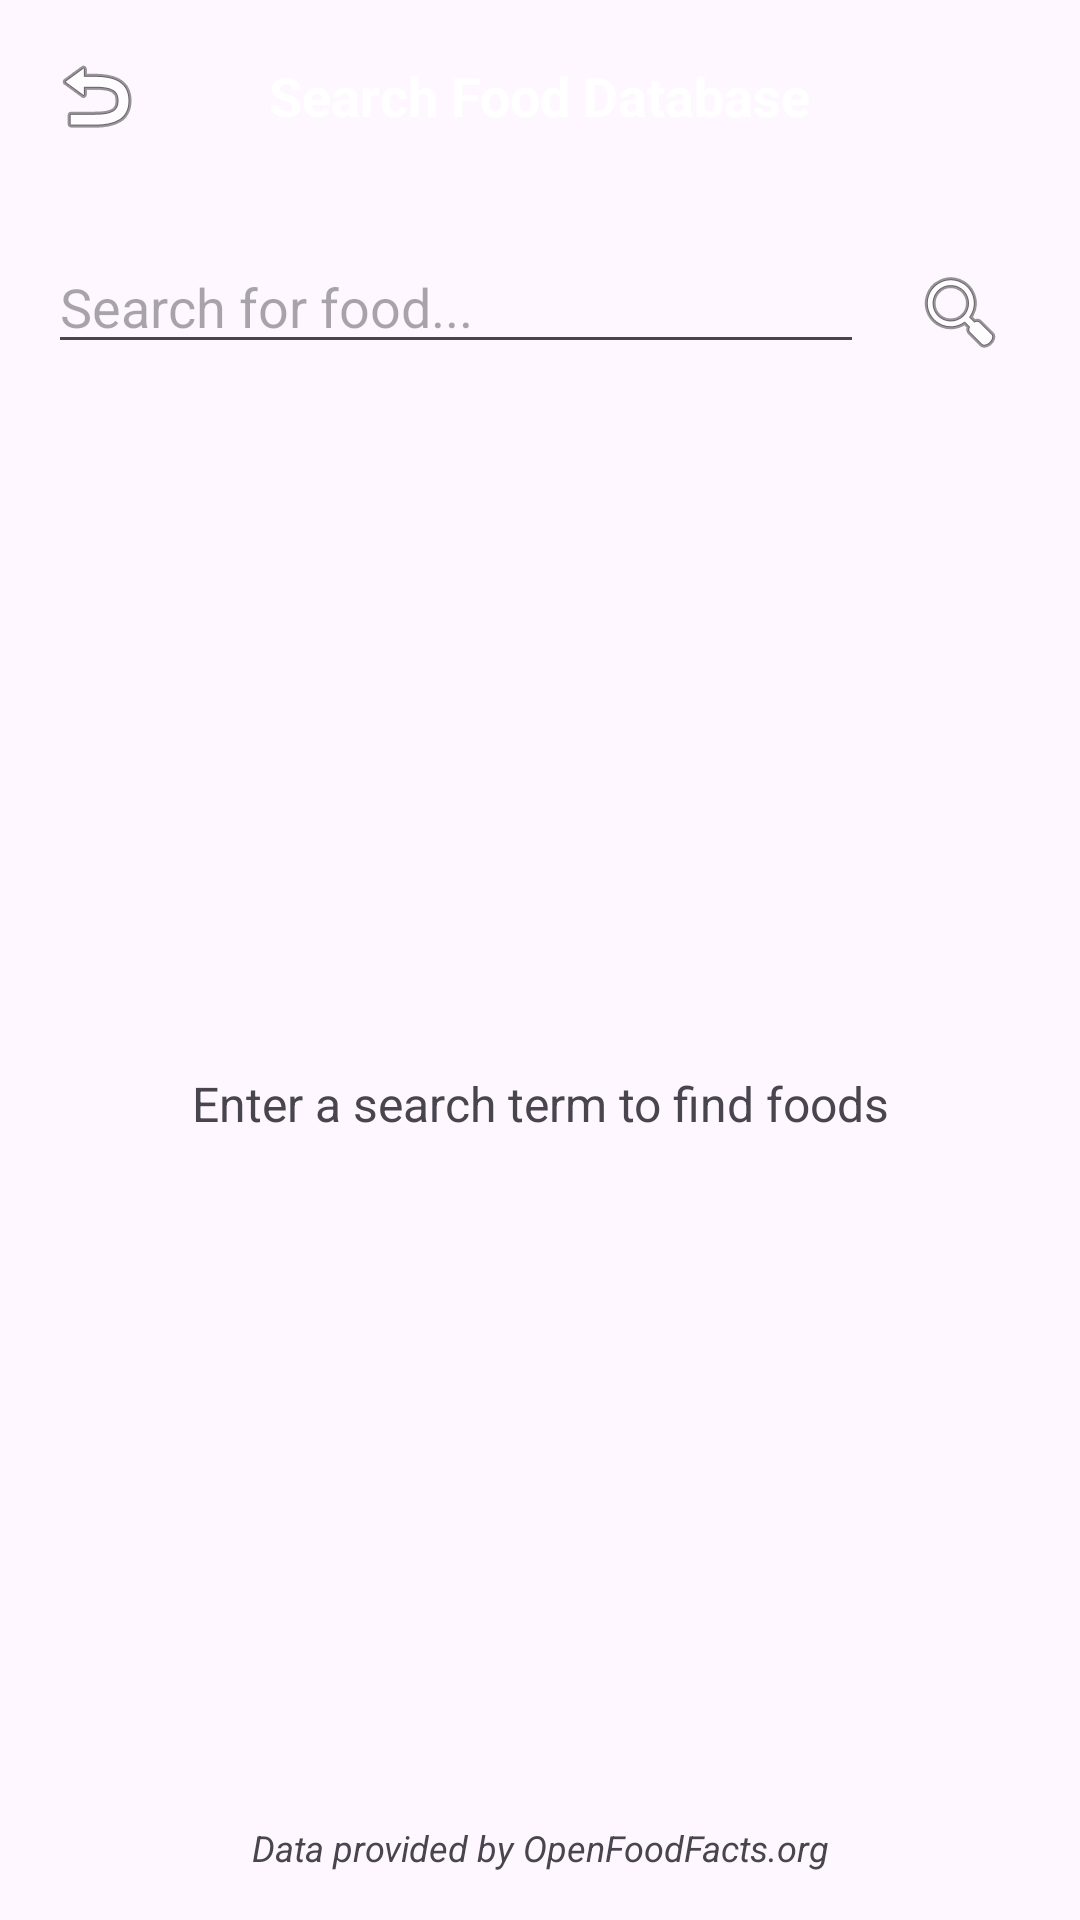

Where icons sit on this 1080px×1920px app screen, as (x1, y1, x2, y2):
Back: (63, 65, 132, 128)
